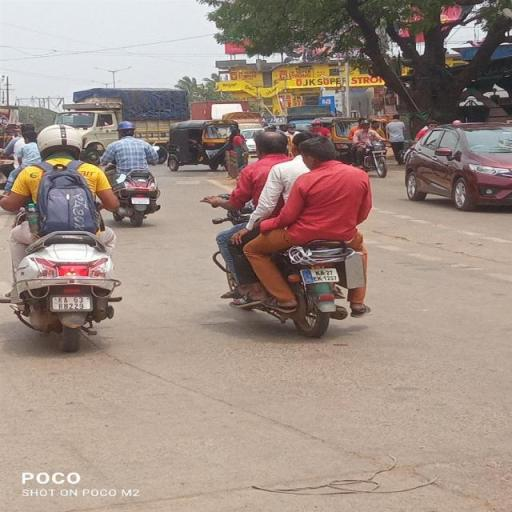tripple riding: (201, 128, 375, 234)
